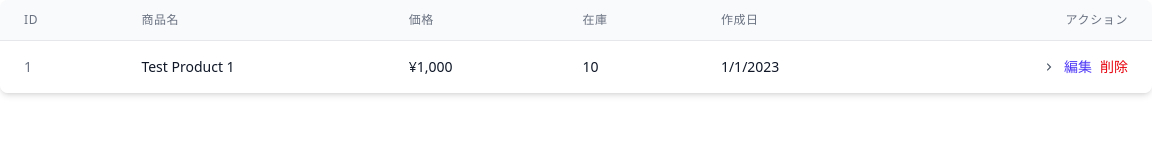
Scenario: ProductList Component › should cancel edit when cancel button is clicked
Note: Find and click the edit button
Click the button "編集": {"x": 1078, "y": 67} [1064,57,1092,77]
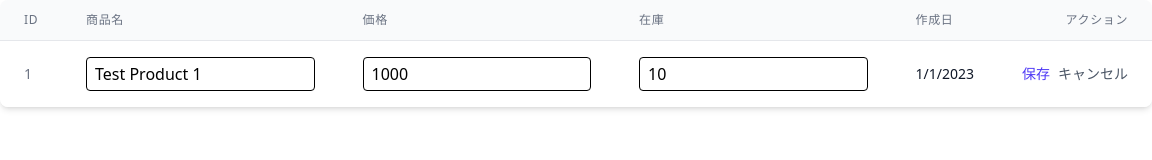
Note: Update form values
Replace the text in the field showing "Test Product 1" with "Updated Product": {"x": 200, "y": 74} [86,57,314,91]
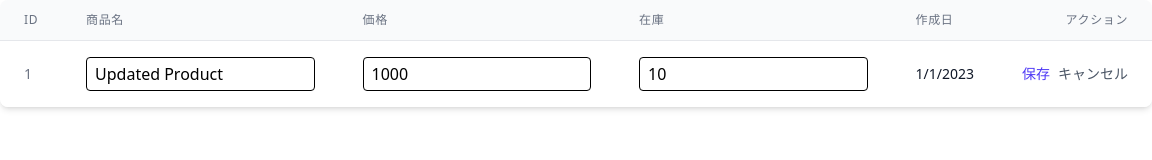
Note: Click cancel button
Click the button "キャンセル": {"x": 1093, "y": 74} [1058,64,1128,84]
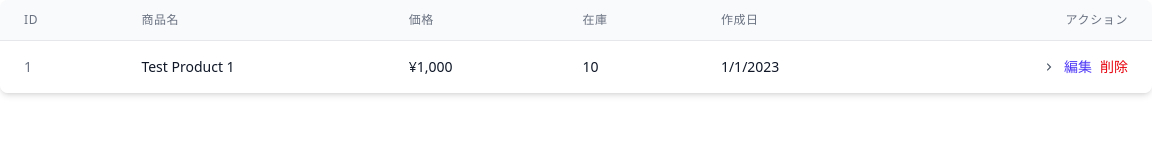
Expected: the field showing "Updated Product" is not shown
Result: the link "Test Product 1" is shown at [141,57,235,76]
Result: the button "編集" is shown at [1064,57,1092,77]
